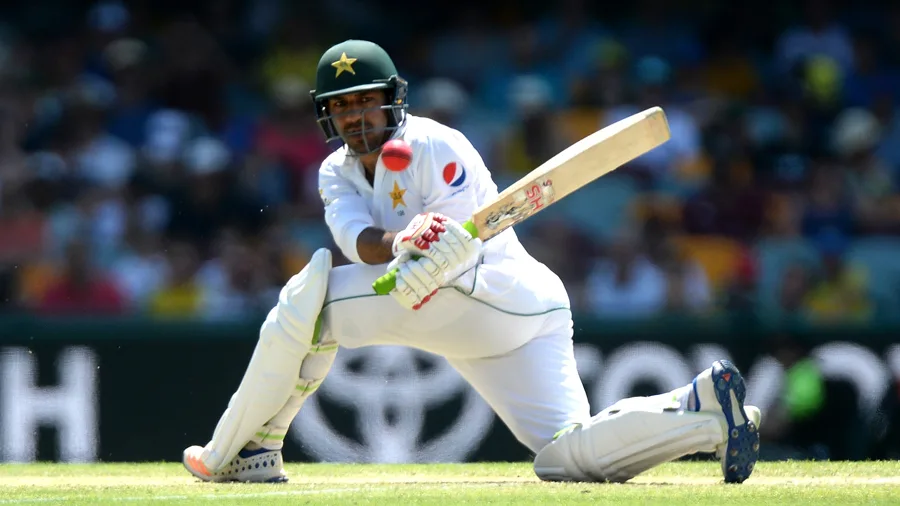Sweepshot: (143, 15, 780, 497)
